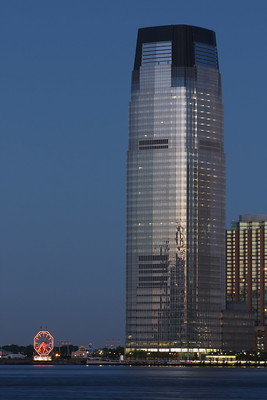low: (123, 21, 230, 362)
